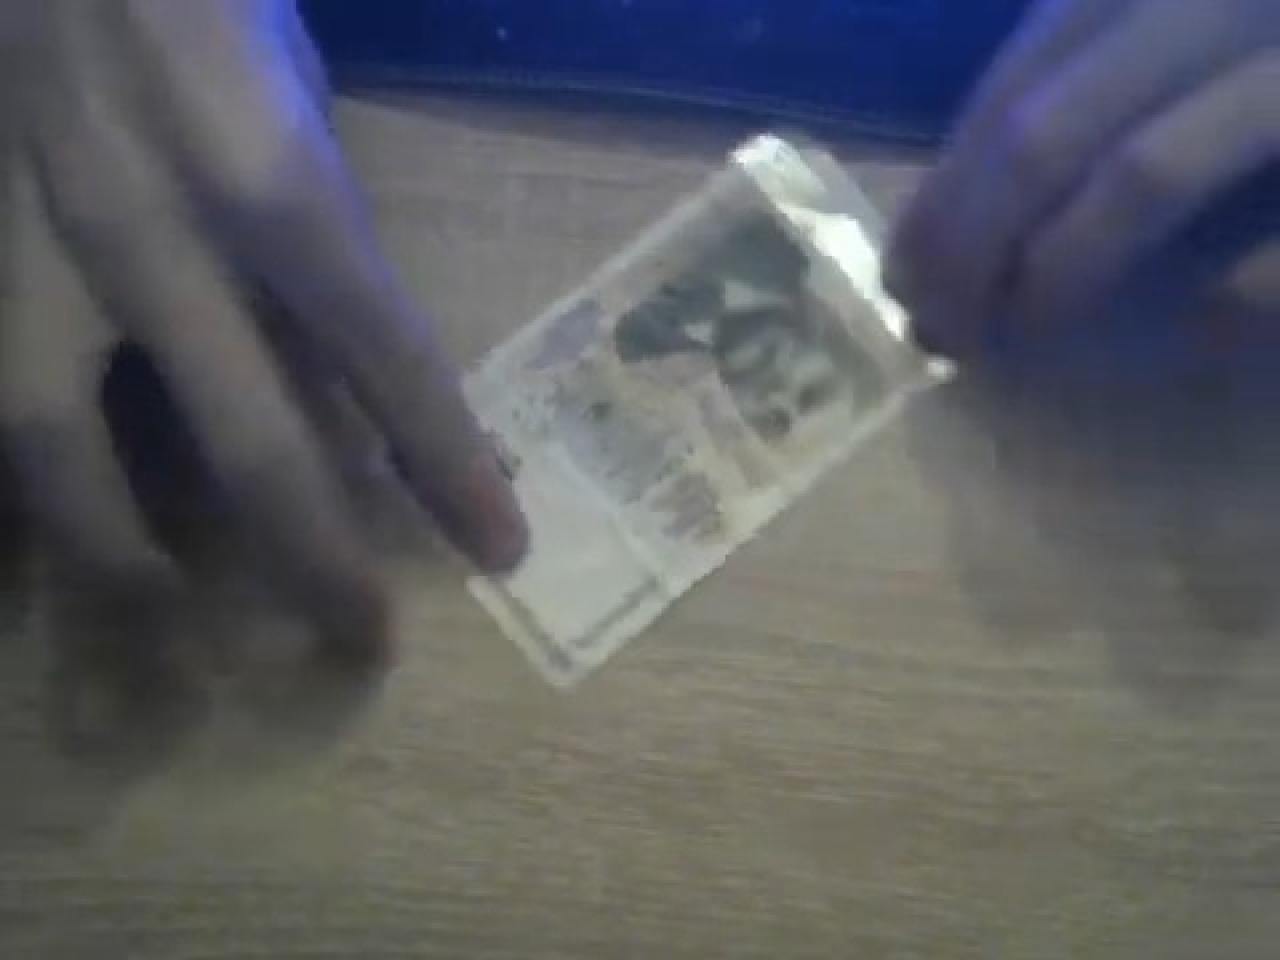10leva: (464, 128, 952, 694)
